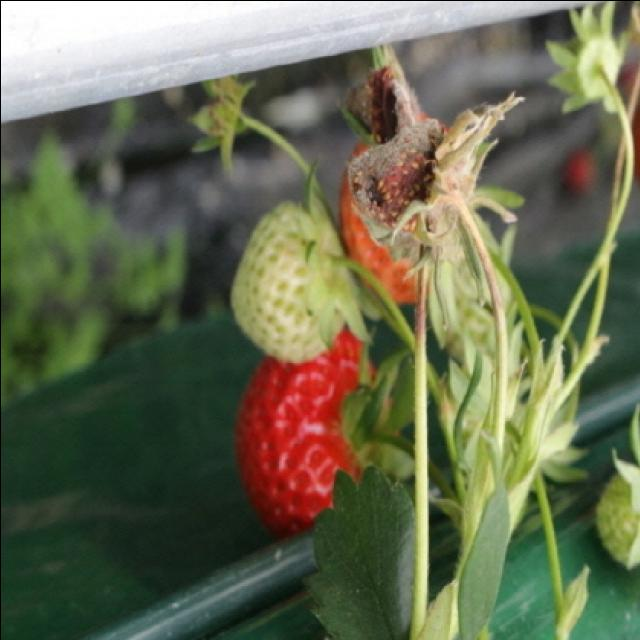Gray Mold: (341, 60, 525, 321)
